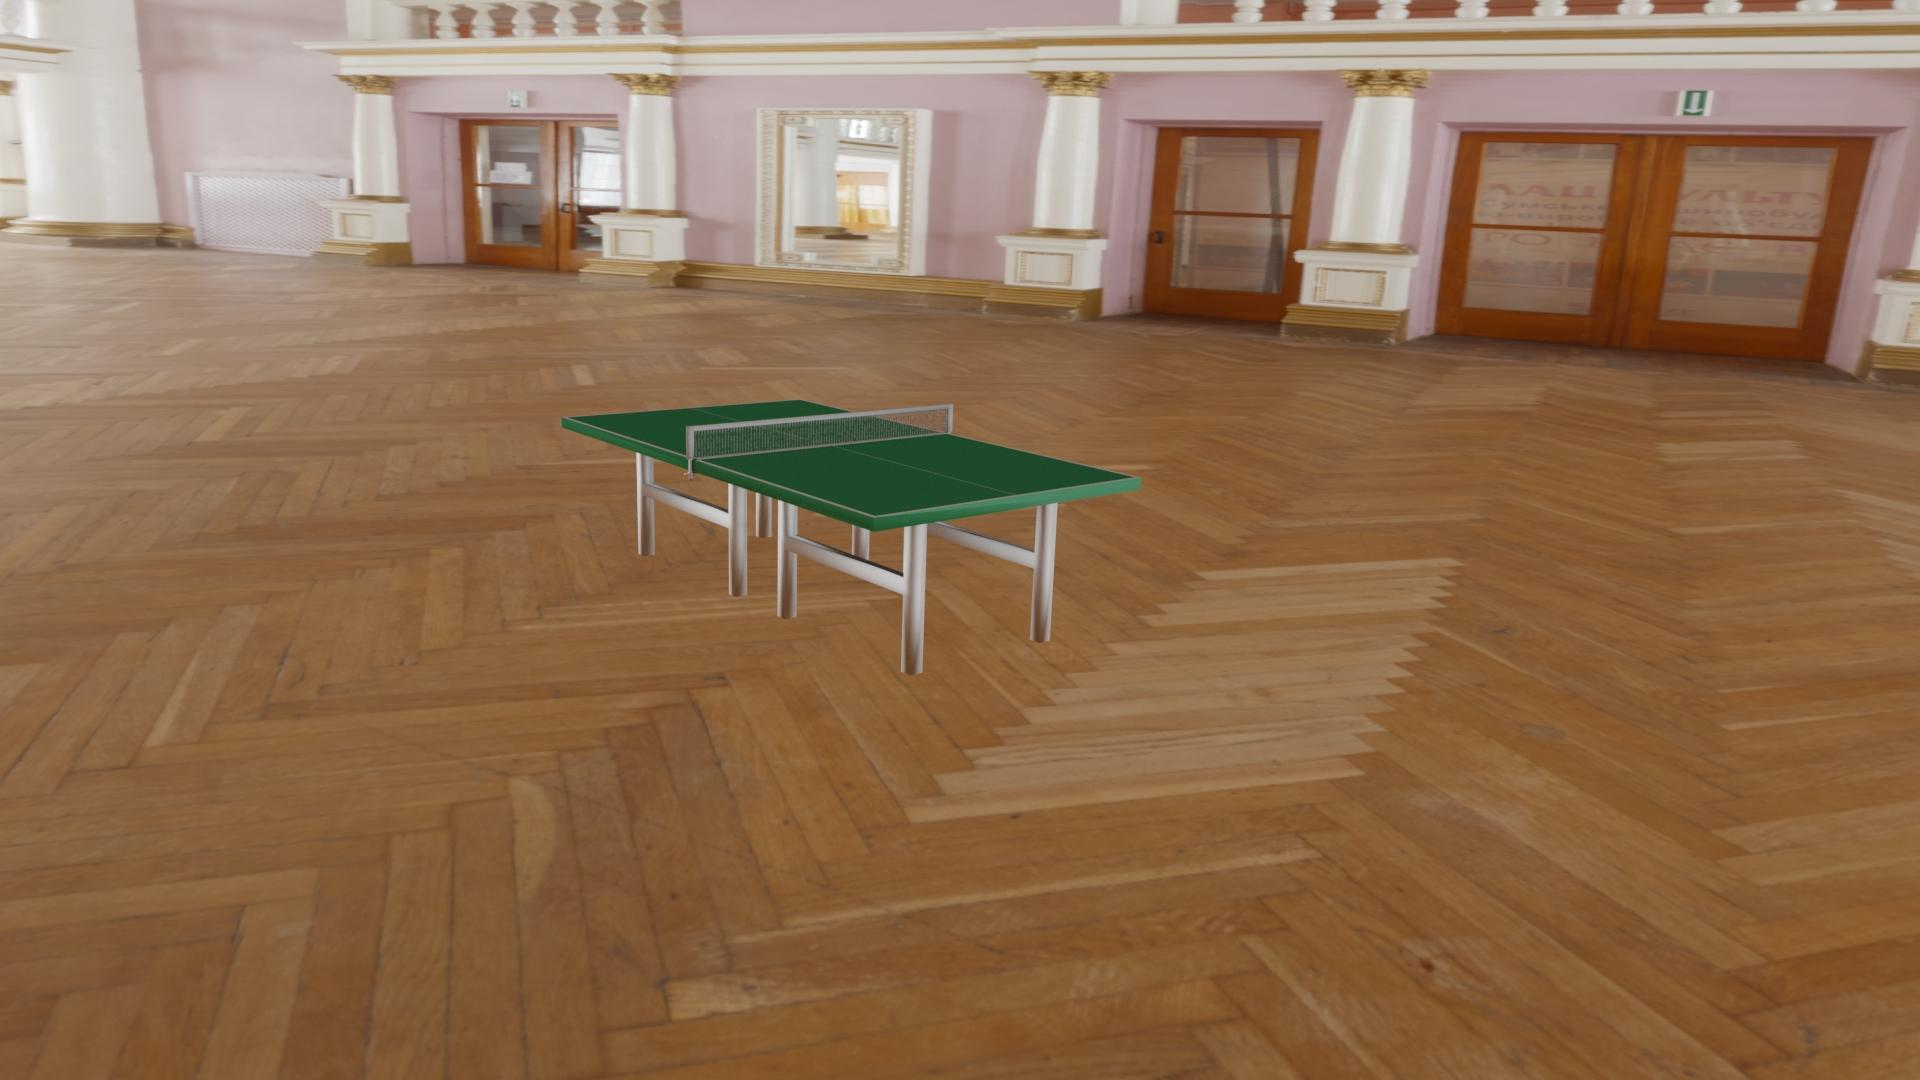table: (567, 400, 1135, 516)
